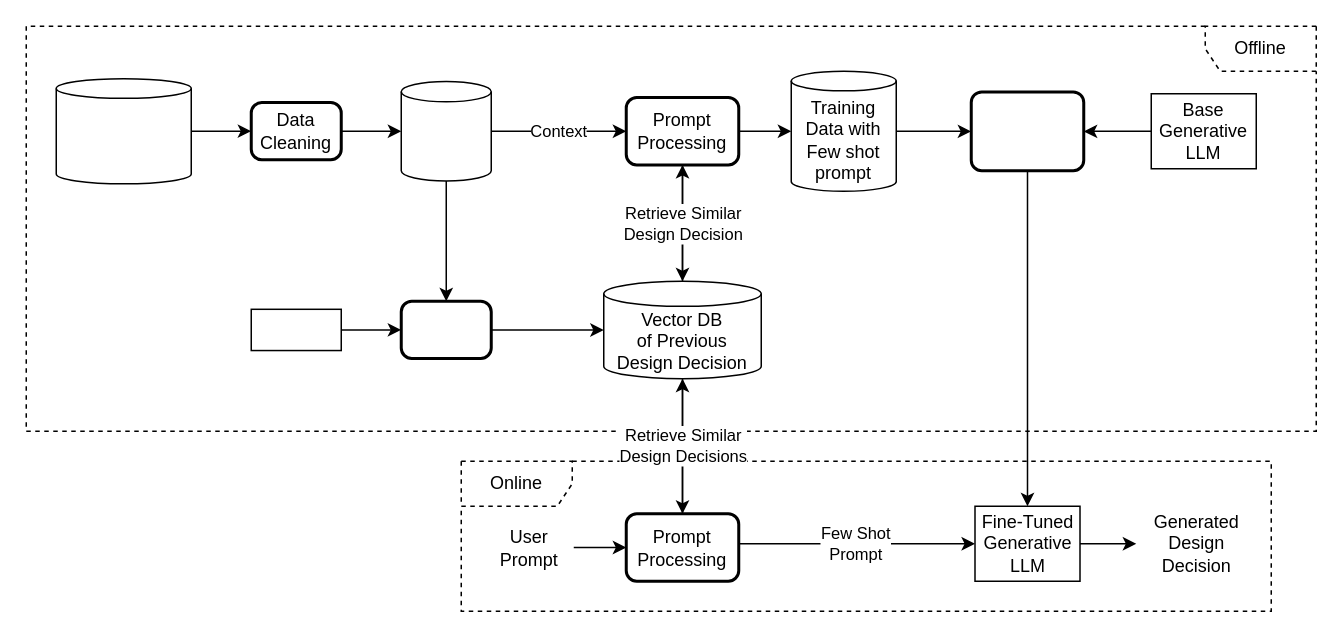
Some shapes in this 1343 by 638 pixel diagram are drawn without their labels. The centre of each missing label's shape, as x and y in pixels:
"Context- Decision pairs" belongs at (x=445, y=130).
"Dataset of Architecture Decision Records" belongs at (x=123, y=130).
"Encoder LLM" belongs at (x=295, y=329).
"Genarative LLM Fine Tuning" belongs at (x=1026, y=130).
"Indexing" belongs at (x=445, y=329).
